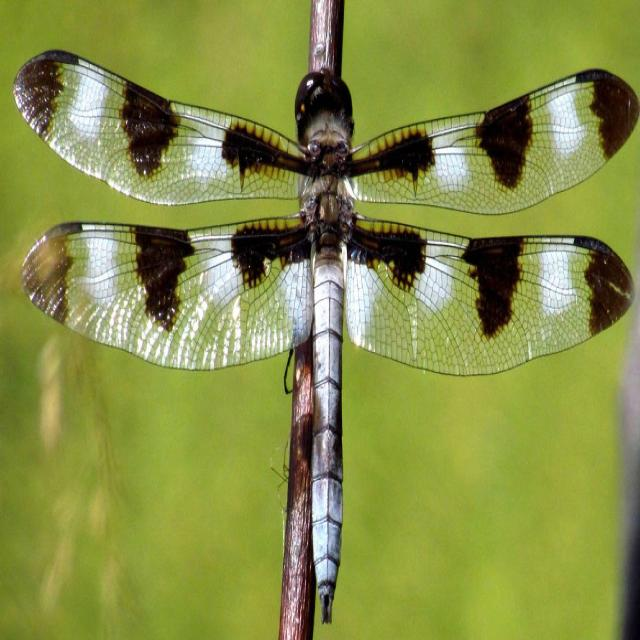dragonfly: (15, 51, 640, 621)
